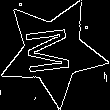M_E: (25, 25, 80, 78)
